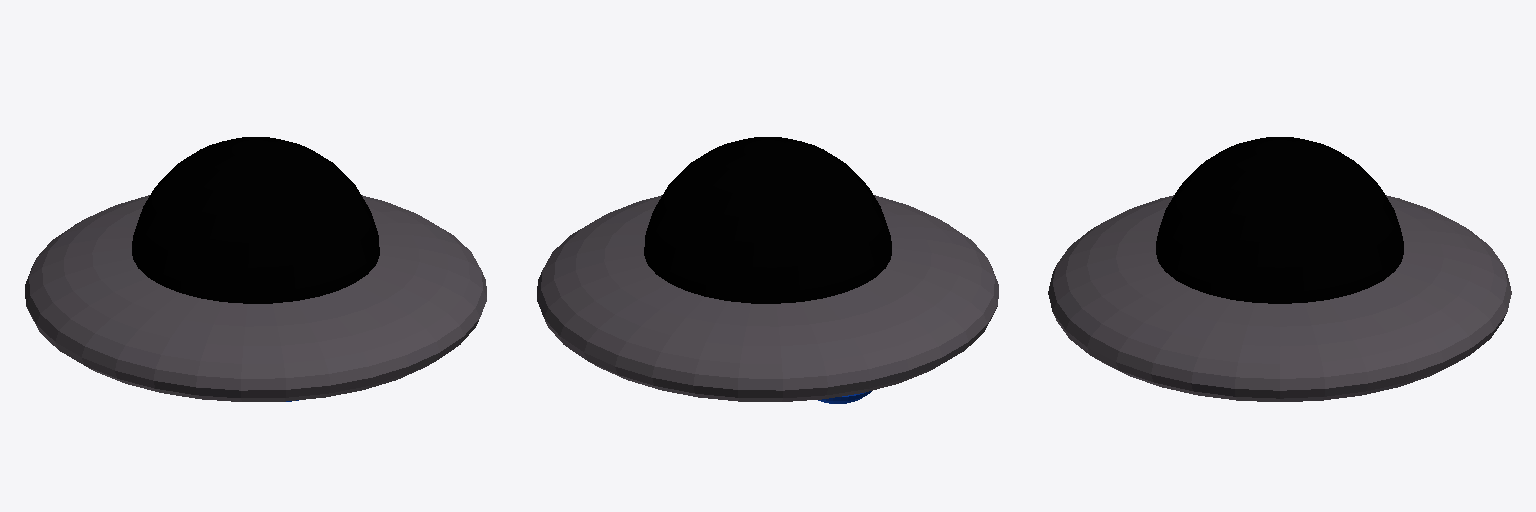
Rendered from UFO.obj.
3 renders of one model, left to right at view 1: azimuth 30°, elevation 25°; view 2: azimuth 150°, elevation 25°; view 3: azimuth 270°, elevation 25°, orthographic.
Visible parts, largest first — view 1: Sphere.001_Sphere.002; view 2: Sphere.001_Sphere.002; view 3: Sphere.001_Sphere.002.
Part boxes in pixels (x1,y1,x2,y2): Sphere.001_Sphere.002: (25,137,486,401); Sphere.001_Sphere.002: (537,137,998,403); Sphere.001_Sphere.002: (1048,137,1511,401).
Bounding box in the file's own units: 5.49 × 2.81 × 5.49.